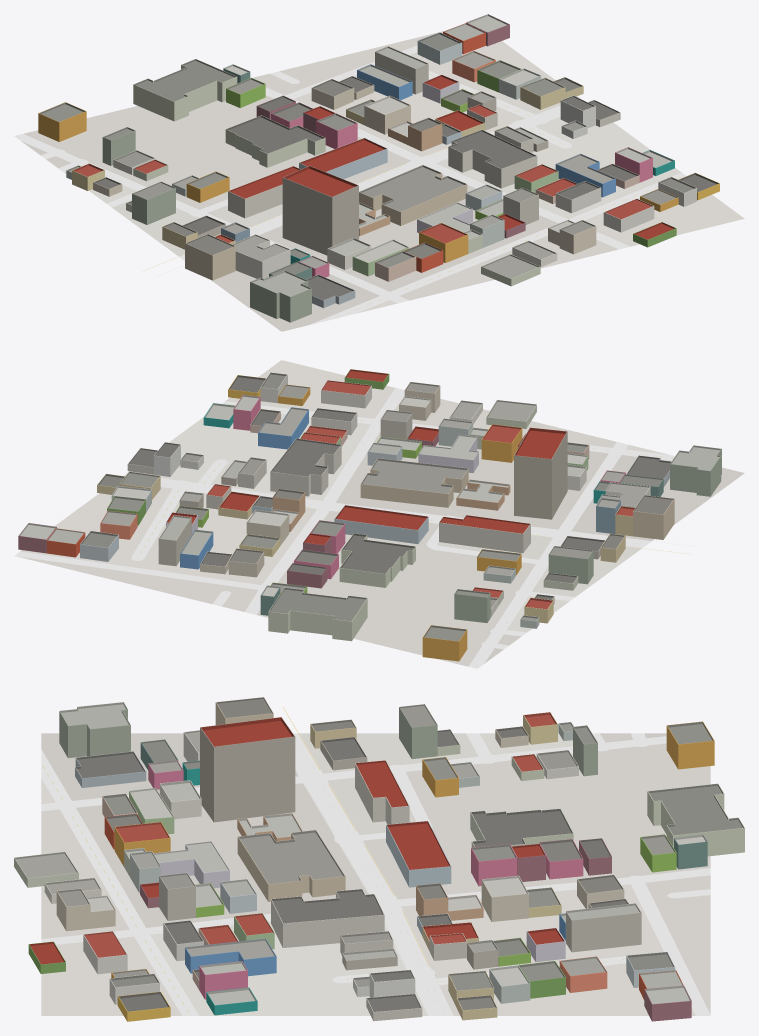
The picture shows the model from 3 angles, top to bottom: view 1: azimuth 30°, elevation 25°; view 2: azimuth 150°, elevation 25°; view 3: azimuth 270°, elevation 25°; orthographic projection. The views are drawn at different scales.
Parts seen in each view (by area): view 1: walls, roofs, ground, asphalt; view 2: walls, roofs, ground, asphalt; view 3: ground, roofs, walls, asphalt, markings.
Boxes of the visible parts, left/top/right/bottom form: walls: left=38, top=23, right=719, bottom=322; roofs: left=39, top=14, right=719, bottom=300; ground: left=21, top=31, right=744, bottom=331; asphalt: left=14, top=45, right=686, bottom=324; walls: left=18, top=374, right=721, bottom=661; roofs: left=18, top=369, right=721, bottom=641; ground: left=18, top=360, right=744, bottom=666; asphalt: left=14, top=388, right=674, bottom=668; ground: left=41, top=733, right=710, bottom=1015; roofs: left=14, top=697, right=744, bottom=1012; walls: left=14, top=702, right=744, bottom=1021; asphalt: left=41, top=733, right=710, bottom=1015; markings: left=43, top=707, right=708, bottom=1011.
Size of what is drawn, in the model's own units: 278 by 31.1 by 273.
